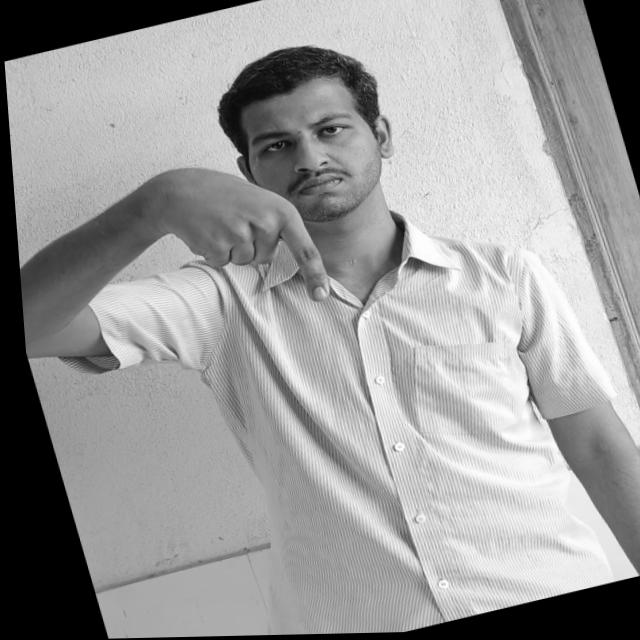Now: (118, 140, 342, 341)
